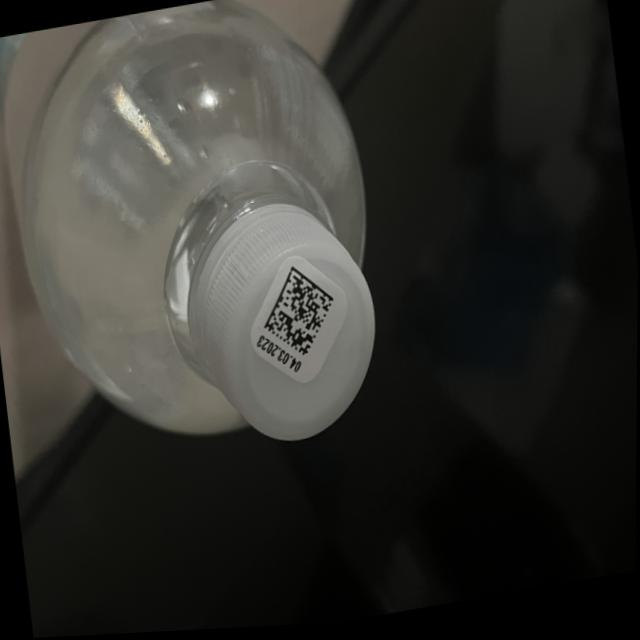datamatrix: (257, 264, 340, 365)
